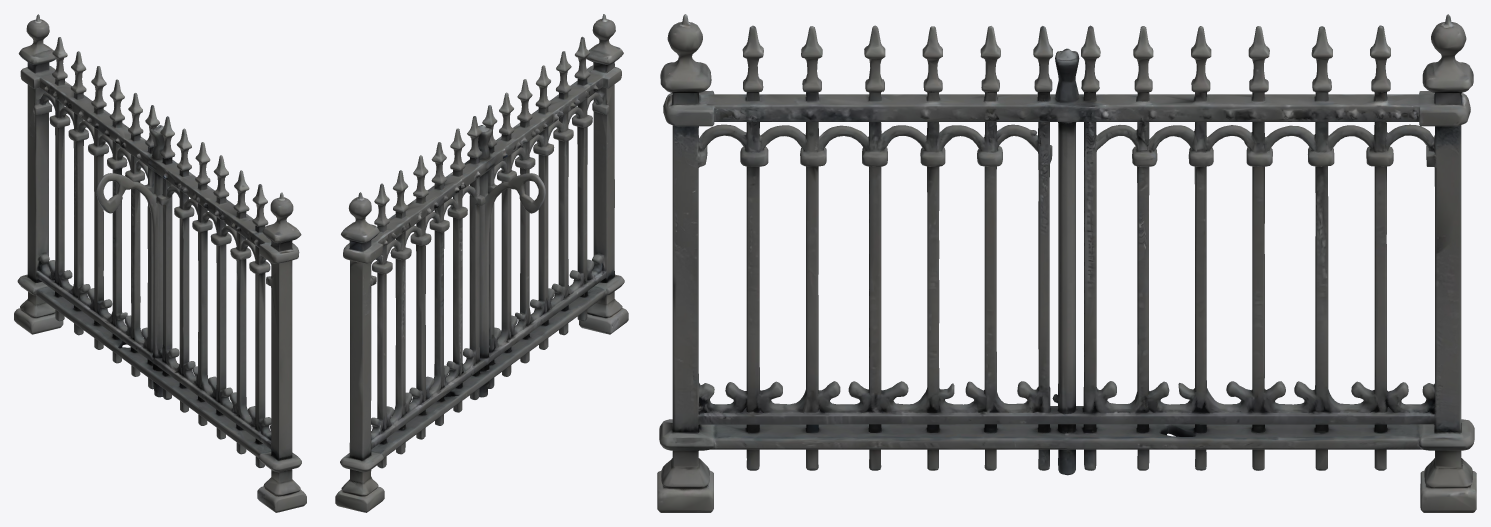
File: prop-fence-iron.glb
3 views of the same model, side by side, from view 1: azimuth 30°, elevation 25°; view 2: azimuth 150°, elevation 25°; view 3: azimuth 270°, elevation 25° (orthographic). The views are drawn at different scales.
Parts seen in each view (by area): view 1: tripo_node_429c828f-34a9-4c53-b726-ce4297bc84d5; view 2: tripo_node_429c828f-34a9-4c53-b726-ce4297bc84d5; view 3: tripo_node_429c828f-34a9-4c53-b726-ce4297bc84d5.
Part boxes in pixels (x1,y1,x2,y2): tripo_node_429c828f-34a9-4c53-b726-ce4297bc84d5: (14,14,306,512); tripo_node_429c828f-34a9-4c53-b726-ce4297bc84d5: (335,14,628,512); tripo_node_429c828f-34a9-4c53-b726-ce4297bc84d5: (657,14,1476,512).
Size of the model in its own units: 0.5361 by 2 by 3.04.
1 material, 1 textured.
